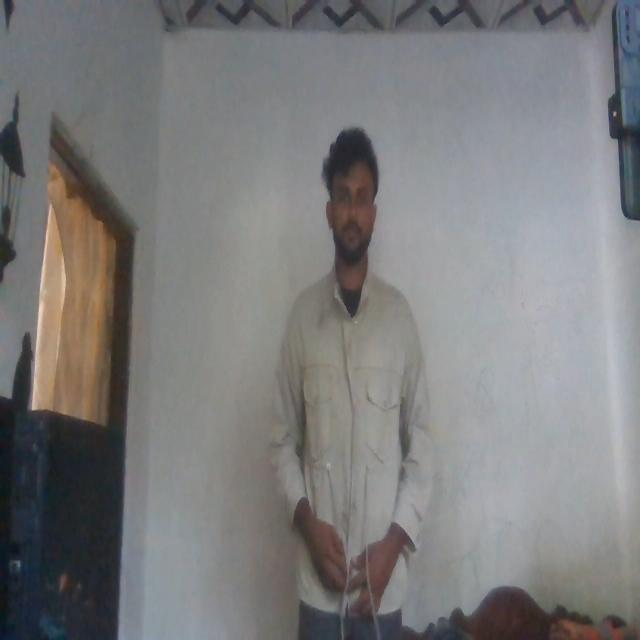Jacket_Wearer: (264, 264, 440, 613)
Person: (266, 127, 438, 640)
